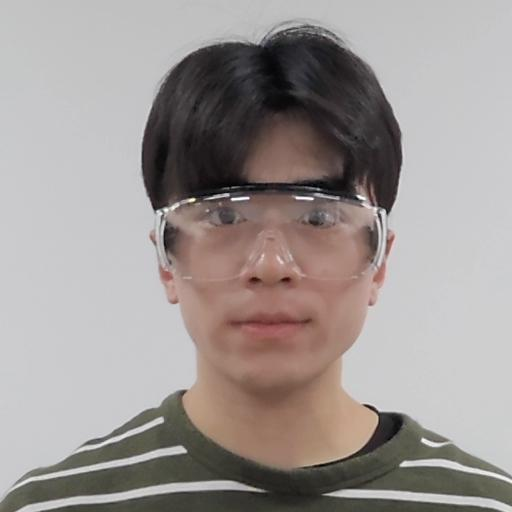glasses: (134, 38, 398, 390)
